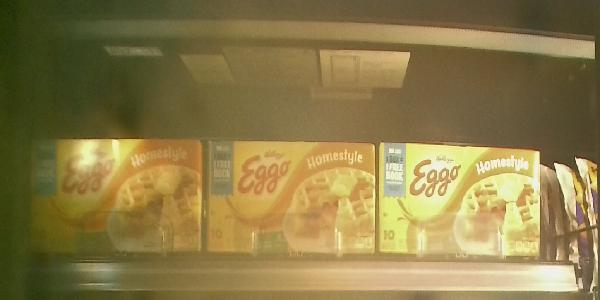icecream: (23, 137, 202, 252), (380, 141, 545, 259), (207, 139, 374, 254)
